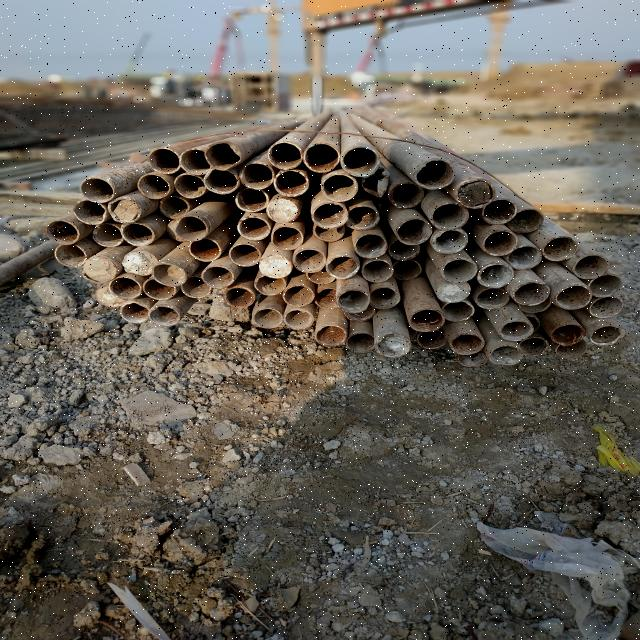pipe: (413, 157, 458, 190), (452, 178, 498, 210), (341, 144, 381, 178), (302, 140, 342, 174), (173, 214, 215, 246), (79, 253, 121, 285), (267, 139, 305, 173), (206, 139, 246, 171), (272, 167, 314, 197), (438, 257, 482, 285), (149, 260, 193, 288), (78, 174, 119, 204), (480, 228, 520, 258), (430, 200, 470, 230), (394, 217, 434, 247), (265, 195, 305, 225), (428, 228, 472, 255), (322, 172, 359, 204), (361, 162, 392, 200), (553, 282, 595, 310), (311, 201, 351, 230), (388, 181, 426, 211), (348, 202, 386, 232), (434, 278, 474, 306), (480, 197, 520, 225), (373, 331, 413, 359), (236, 162, 276, 190), (146, 145, 183, 175), (571, 253, 611, 280), (476, 262, 516, 289), (202, 168, 242, 195), (42, 218, 82, 245), (542, 236, 580, 264), (269, 224, 307, 252), (136, 172, 174, 200), (106, 196, 144, 224), (70, 198, 108, 226), (121, 248, 159, 276), (292, 247, 331, 274), (506, 208, 546, 234), (186, 237, 226, 263), (119, 221, 159, 247), (312, 322, 349, 350), (354, 232, 391, 260), (106, 274, 144, 301), (174, 172, 208, 202), (258, 254, 294, 282), (156, 195, 193, 222), (334, 288, 372, 314), (236, 214, 274, 240), (51, 242, 89, 268), (148, 303, 185, 329), (496, 318, 536, 342), (510, 282, 550, 306), (406, 308, 446, 332), (179, 146, 211, 176), (587, 273, 623, 299), (507, 244, 543, 270), (474, 286, 513, 310), (389, 256, 425, 282), (234, 188, 270, 214), (228, 243, 264, 269), (142, 276, 178, 302), (549, 322, 587, 346), (487, 344, 525, 368), (450, 332, 488, 356), (589, 296, 627, 320), (280, 284, 318, 308), (369, 285, 404, 311), (327, 254, 362, 280), (202, 265, 238, 290), (118, 300, 154, 325), (90, 222, 126, 247), (361, 258, 395, 284), (92, 284, 126, 310), (515, 292, 555, 314), (387, 238, 423, 262), (254, 274, 290, 298), (340, 302, 379, 324), (441, 300, 476, 324), (588, 324, 626, 346), (282, 306, 316, 330), (250, 308, 284, 332), (223, 284, 257, 308), (180, 276, 214, 300), (345, 331, 375, 356), (312, 222, 348, 242), (517, 336, 549, 358), (554, 340, 589, 360), (454, 349, 489, 369), (315, 286, 341, 310), (417, 329, 448, 349), (304, 267, 338, 285)
